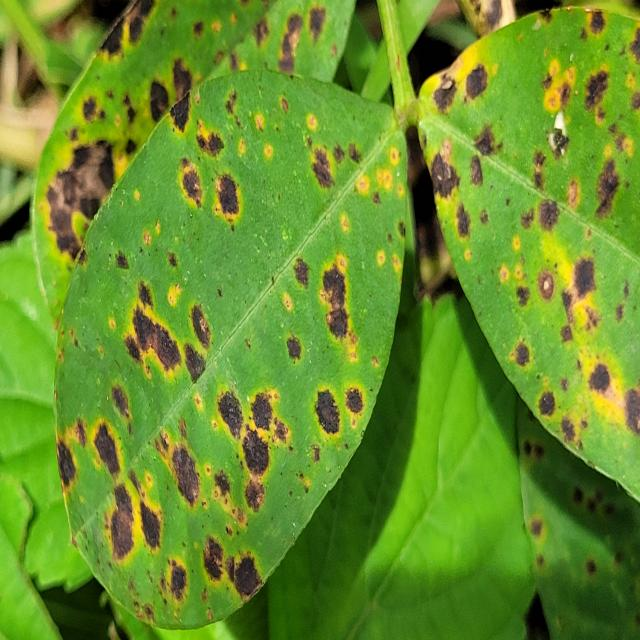Ground nut_tikka leaf spot: (54, 70, 409, 631), (417, 7, 640, 499)
